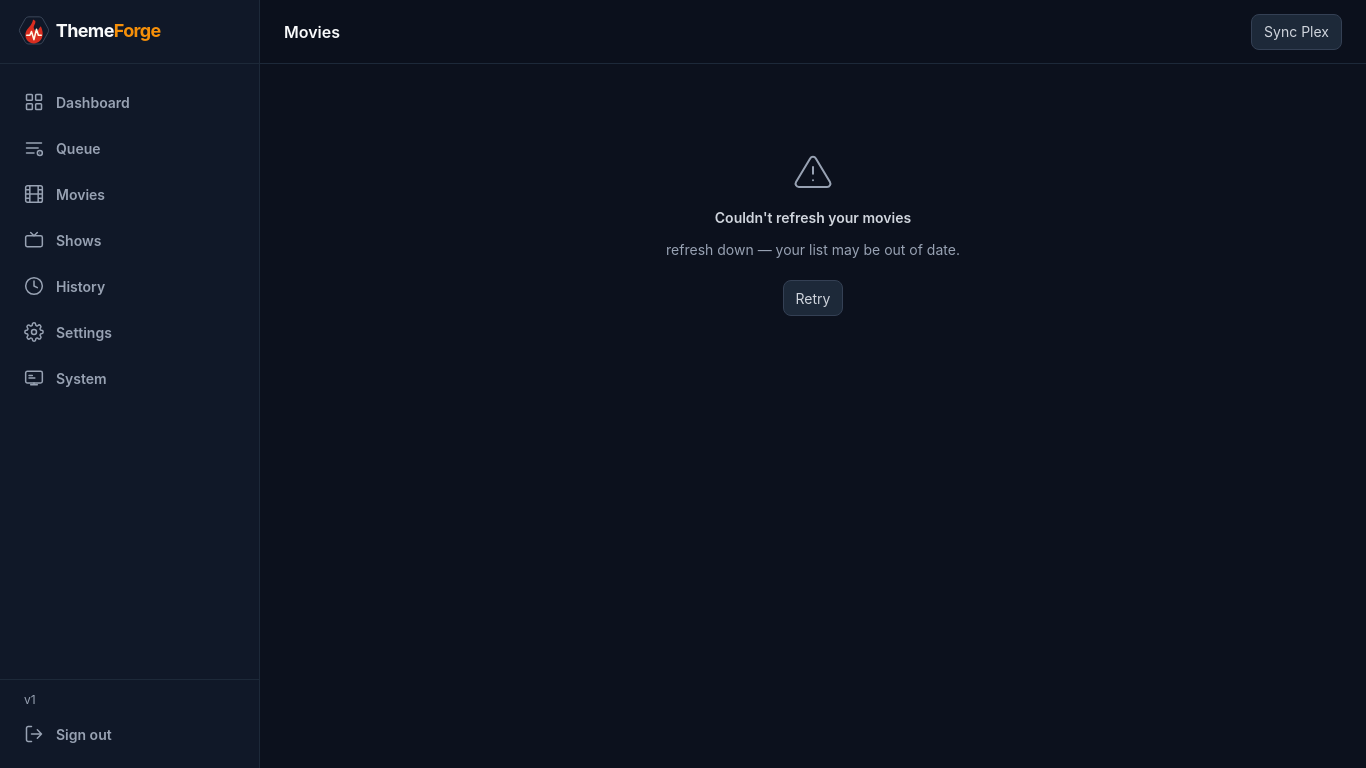
an action in flight says so and cannot be fired twice › Retry on a failed movies refresh only issues one request per click
Click the button "Retry": coordinates (813, 298) x1=782 y1=280 x2=843 y2=316
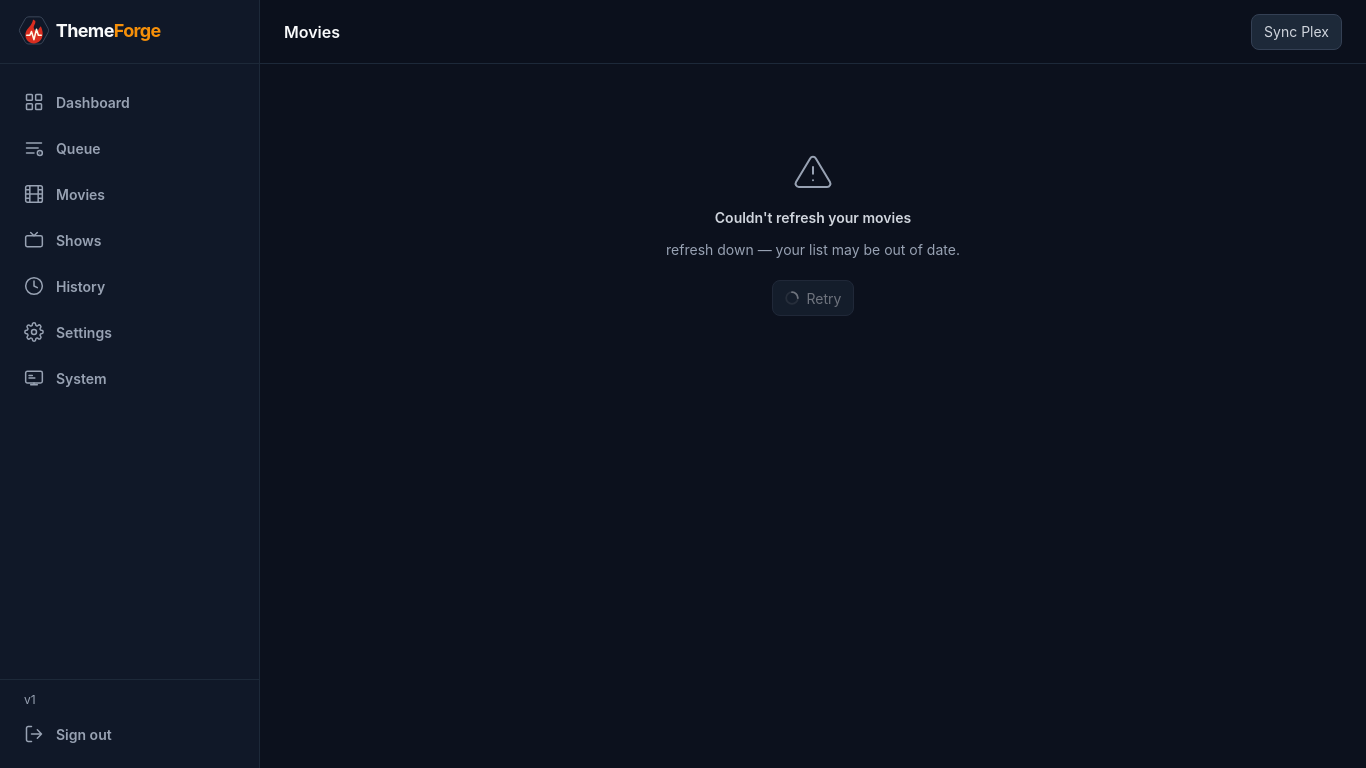
Now the button "Retry" is disabled
Click the button "Retry": coordinates (813, 298) x1=772 y1=280 x2=854 y2=316
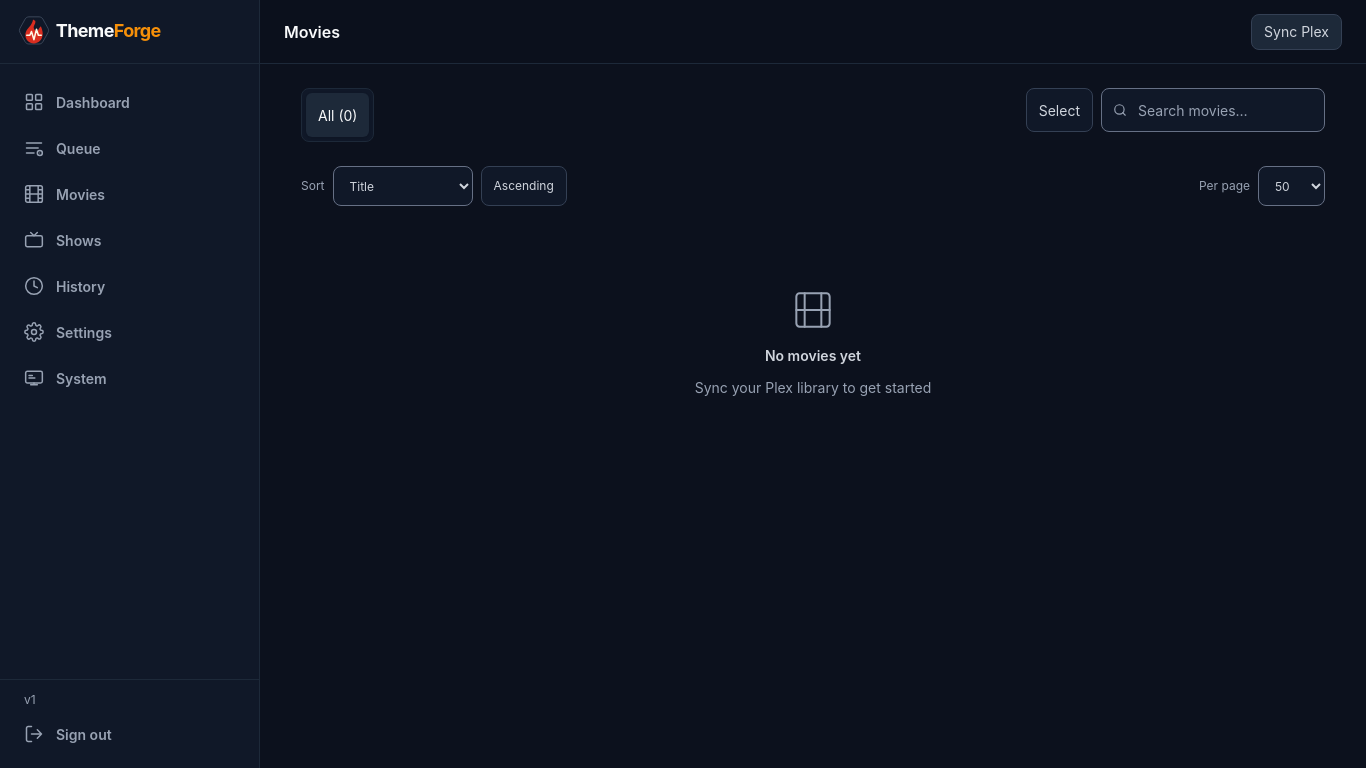
Now the text "Couldn't refresh" is gone
